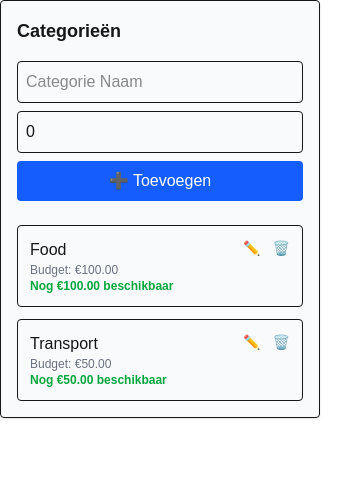
CategorySidebar › can start and cancel editing a category
Click the button "✏️" in the row of "Food". click: (252, 248)
box: [243,238,261,258]
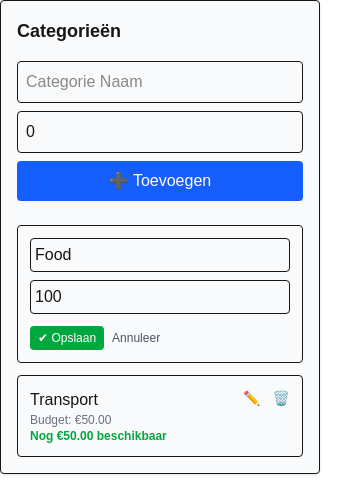
Result: the field showing "Food" is shown at [30,238,290,272]
Result: the button "✔︎ Opslaan" is shown at [30,326,104,350]
Click the button "Annuleer". click: (136, 338)
box: [112,326,160,350]
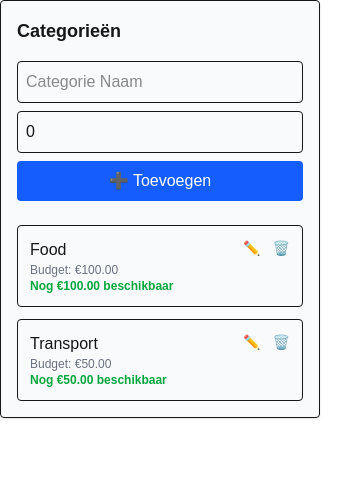
Result: the button "✔︎ Opslaan" is gone
